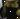with_mask: (2, 1, 20, 19)
